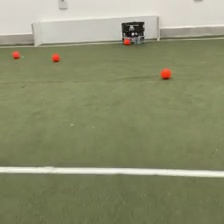ball: (160, 66, 171, 79), (51, 51, 61, 62), (11, 49, 21, 59), (123, 36, 131, 45)
goal: (30, 14, 161, 47)
robot: (120, 21, 146, 45)
